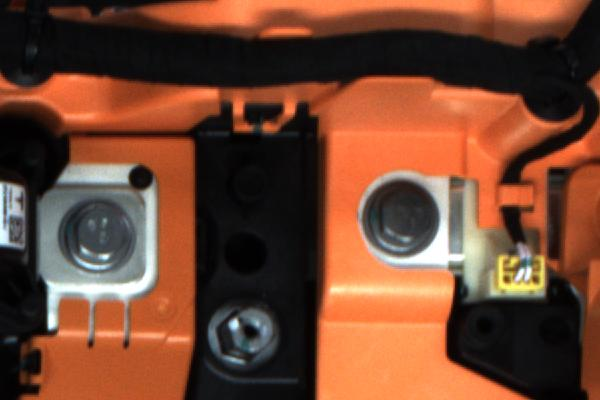nut_b: (351, 167, 447, 264), (57, 193, 141, 278)
